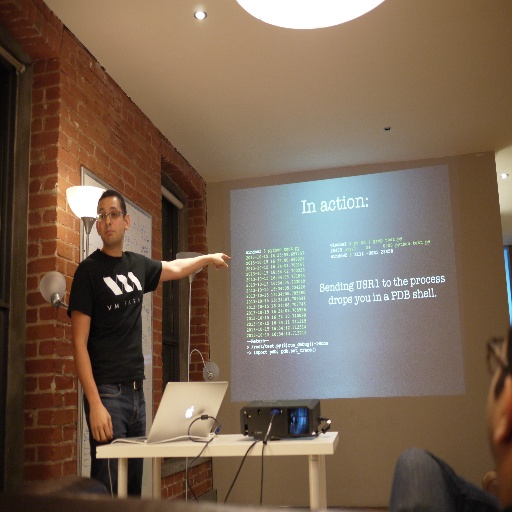hand: (89, 403, 112, 442), (210, 250, 232, 273)
